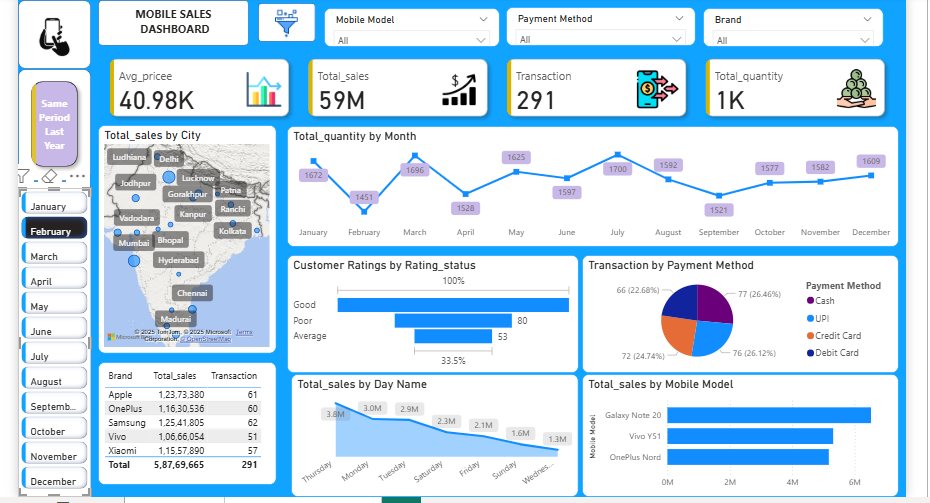

The page's visual inventory and layout, read from the dashboard file:
{"tool":"powerbi","page":{"name":"Dashboard","canvas":[1280,720],"ordinal":0},"visuals":[{"type":"shape","box":[0,5,105,98.8],"z":0},{"type":"image","box":[0,5,105,107.5],"z":1000},{"type":"shape","box":[0,103.8,105,161.2],"z":2000},{"type":"shape","box":[0,265,105,455],"z":3000},{"type":"advancedSlicerVisual","fields":{"Values":["custome_calendar.Date.Variation.Date Hierarchy.Month"]},"box":[0,275,105,445],"z":4000},{"type":"cardVisual","fields":{"Data":["sales data.Avg_pricee","sales data.Total_sales","sales data.Transaction","sales data.Total_quantity"]},"box":[115.7,71.4,1152.9,117.1],"z":5000},{"type":"slicer","fields":{"Values":["sales data.Mobile Model"]},"box":[440,15.7,252.9,55.7],"z":6000},{"type":"slicer","fields":{"Values":["sales data.Payment Method"]},"box":[702.9,14.3,272.9,55.7],"z":7000},{"type":"slicer","fields":{"Values":["sales data.Brand"]},"box":[985.7,15.7,260,55.7],"z":8000},{"type":"shape","box":[345.7,8.6,82.9,55.7],"z":9000},{"type":"image","box":[361.4,10,50,55.7],"z":10000},{"type":"shape","box":[115.7,4.3,217.1,65.7],"z":11000},{"type":"textbox","box":[134.3,8.6,184.3,57.1],"z":12000},{"type":"map","fields":{"Category":["sales data.City"],"Size":["sales data.Total_sales"]},"box":[115.7,184.3,257.1,328.6],"z":13000},{"type":"lineChart","fields":{"Y":["sales data.Total_quantity"],"Category":["custome_calendar.Date.Variation.Date Hierarchy.Month"]},"box":[387.1,185.7,881.4,174.3],"z":14000},{"type":"funnel","title":"Customer Ratings by Rating_status","fields":{"Y":["CountNonNull(sales data.Customer Ratings)"],"Category":["sales data.Rating_status"]},"box":[387.1,371.4,420,170],"z":15000},{"type":"pieChart","fields":{"Category":["sales data.Payment Method"],"Y":["sales data.Transaction"]},"box":[812.9,371.4,455.7,170],"z":16000},{"type":"clusteredBarChart","fields":{"Y":["sales data.Total_sales"],"Category":["sales data.Mobile Model"]},"box":[812.9,542.9,455.7,177.1],"z":17000},{"type":"areaChart","fields":{"Y":["sales data.Total_sales"],"Category":["custome_calendar.Day Name"]},"box":[392.9,542.9,414.3,177.1],"z":18000},{"type":"tableEx","fields":{"Values":["sales data.Brand","sales data.Total_sales","sales data.Transaction"]},"box":[115.7,525.7,257.1,177.1],"z":19000},{"type":"pageNavigator","box":[10,112.9,85.7,141.4],"z":20000}]}

Visuals, with their boxes in screenshot pixels (x1, y1, x2, y2):
shape: bbox=[17, 0, 89, 67]
image: bbox=[17, 0, 89, 73]
shape: bbox=[17, 67, 89, 178]
shape: bbox=[17, 178, 89, 492]
advancedSlicerVisual - custome_calendar.Date.Variation.Date Hierarchy.Month: bbox=[17, 185, 89, 492]
cardVisual - sales data.Avg_pricee x sales data.Total_sales: bbox=[97, 44, 892, 125]
slicer - sales data.Mobile Model: bbox=[321, 6, 495, 44]
slicer - sales data.Payment Method: bbox=[502, 5, 690, 43]
slicer - sales data.Brand: bbox=[697, 6, 876, 44]
shape: bbox=[255, 1, 313, 40]
image: bbox=[266, 2, 301, 40]
shape: bbox=[97, 0, 247, 43]
textbox: bbox=[110, 1, 237, 40]
map - sales data.City x sales data.Total_sales: bbox=[97, 122, 274, 349]
lineChart - sales data.Total_quantity x custome_calendar.Date.Variation.Date Hierarchy.Month: bbox=[284, 123, 892, 244]
"Customer Ratings by Rating_status" funnel: bbox=[284, 251, 574, 369]
pieChart - sales data.Payment Method x sales data.Transaction: bbox=[578, 251, 892, 369]
clusteredBarChart - sales data.Total_sales x sales data.Mobile Model: bbox=[578, 370, 892, 492]
areaChart - sales data.Total_sales x custome_calendar.Day Name: bbox=[288, 370, 574, 492]
tableEx - sales data.Brand x sales data.Total_sales: bbox=[97, 358, 274, 480]
pageNavigator: bbox=[24, 73, 83, 171]
